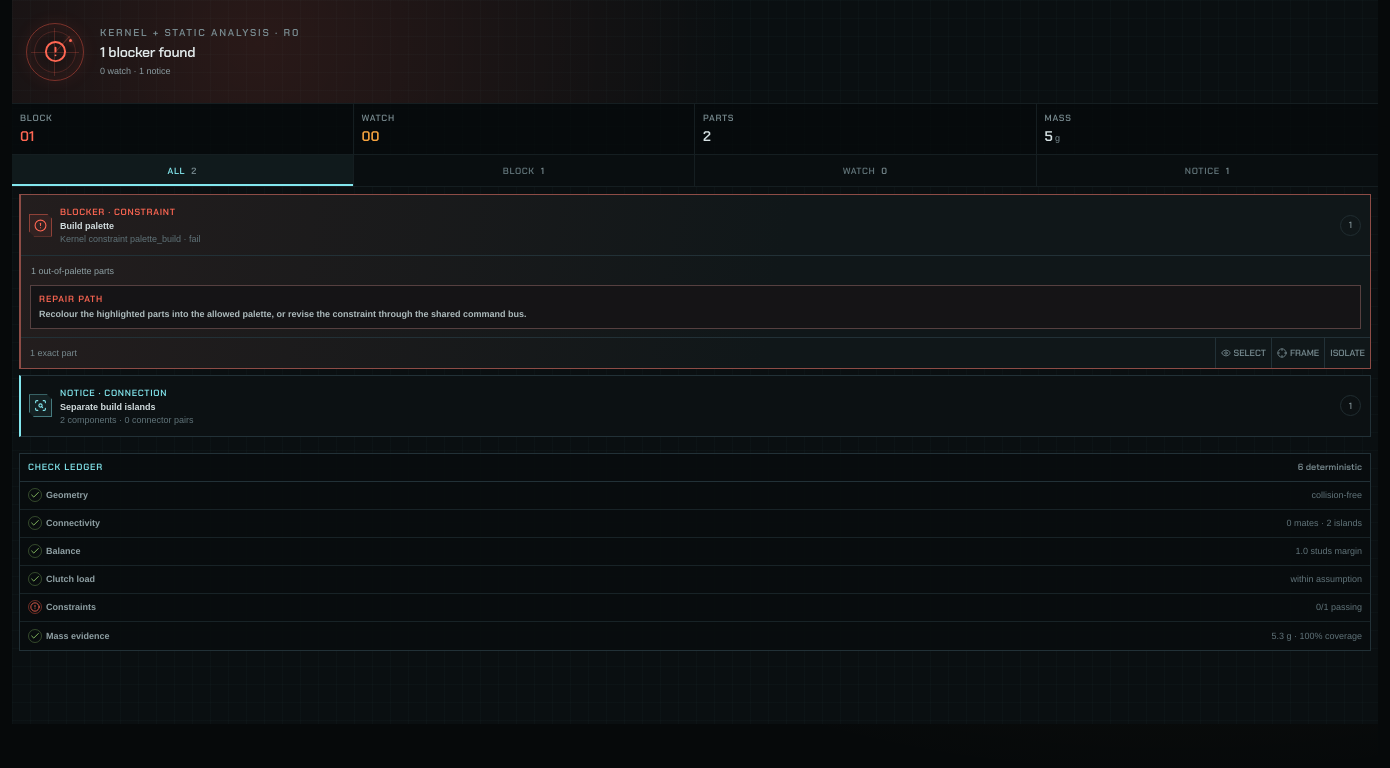
Test: Model Health navigator › filters the deterministic issue queue by severity
Click the tab "BLOCK 1" at (524, 170), box [354,155,695,186]
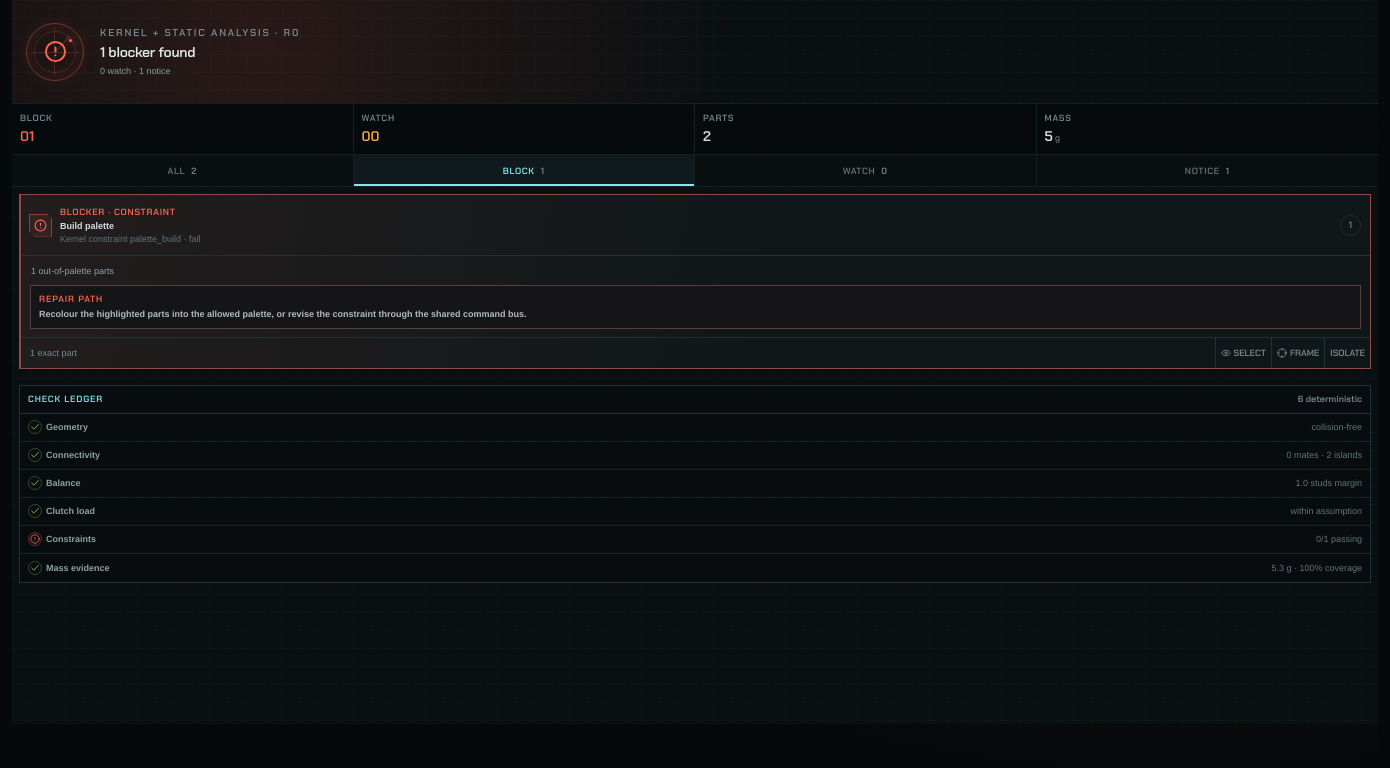
expect the text "Build palette" is shown: met, box [60,221,114,231]
expect the button "Separate build islands" is gone: met
Click the tab "NOTICE 1" at (1207, 170), box [1036,155,1378,186]
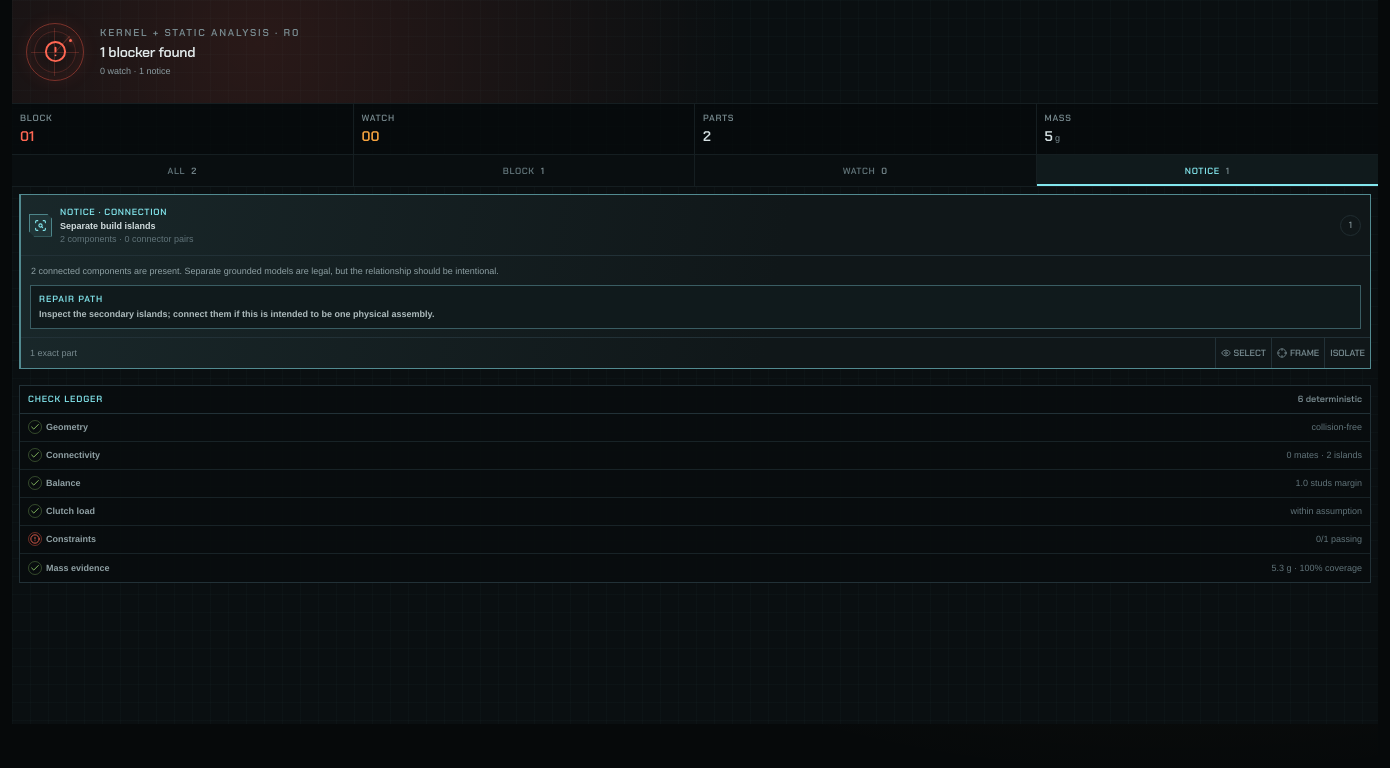
expect the text "Separate build islands" is shown: met, box [60,221,156,231]
expect the button "Build palette" is gone: met
